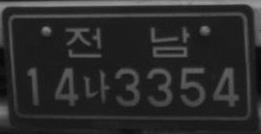1: (21, 65, 46, 106)
3: (145, 67, 173, 108), (113, 66, 140, 108)
4: (212, 66, 239, 107), (53, 67, 79, 107)
5: (179, 66, 207, 109)
나: (83, 69, 110, 104)
전남_D: (65, 24, 189, 59)
